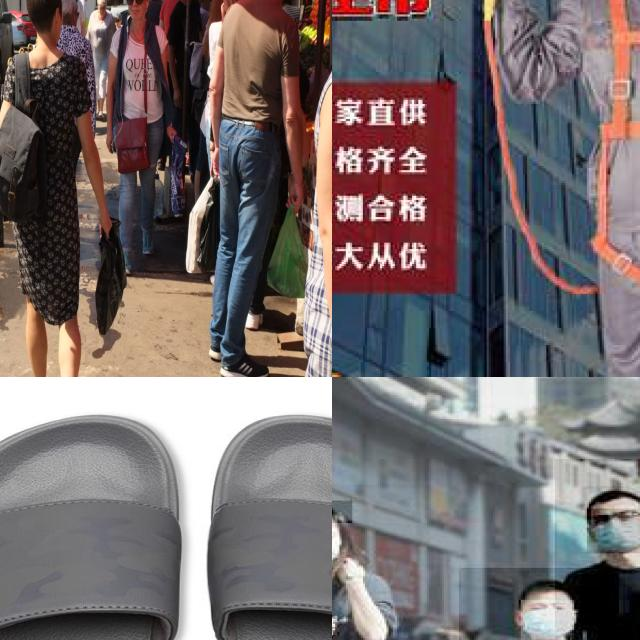Harness: (582, 0, 640, 296)
Sandals: (0, 394, 332, 640)
face_mask: (587, 508, 640, 553), (521, 600, 574, 640)
glasses: (583, 505, 640, 530)
head_nohelmet: (519, 572, 572, 600), (580, 486, 640, 505), (332, 500, 352, 523)
